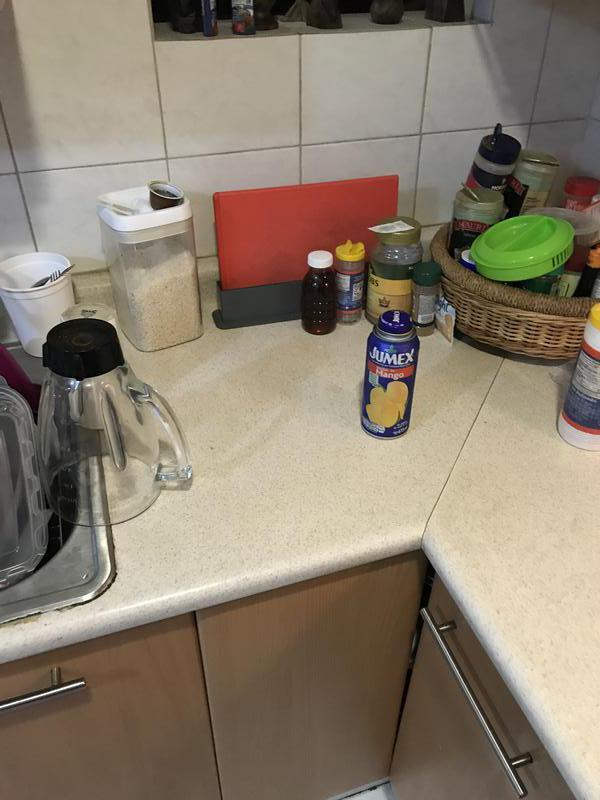jugo_jumex: (364, 310, 416, 440)
